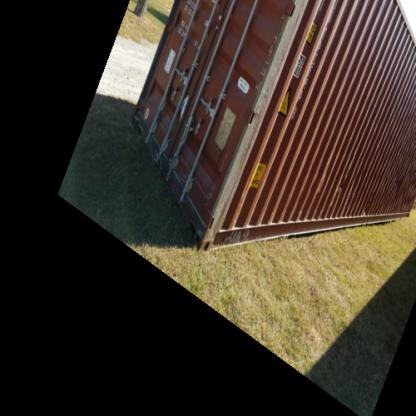Damage: (388, 162, 409, 198), (360, 196, 379, 218), (333, 165, 347, 191)
